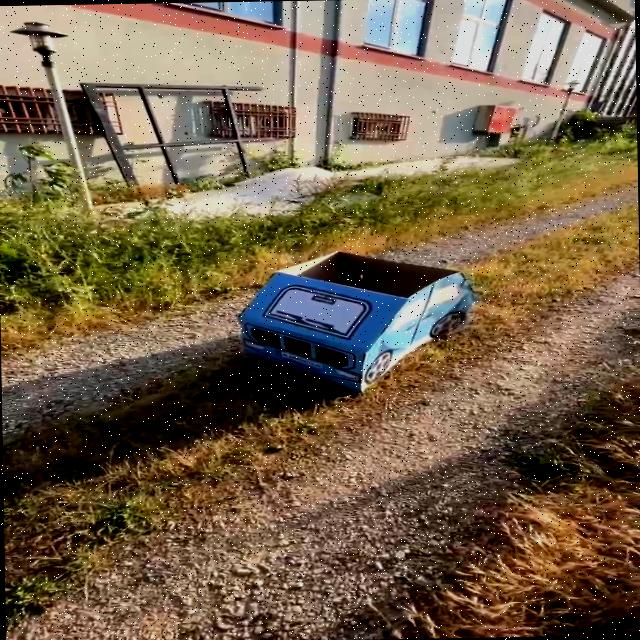blue_car: (179, 227, 499, 413)
